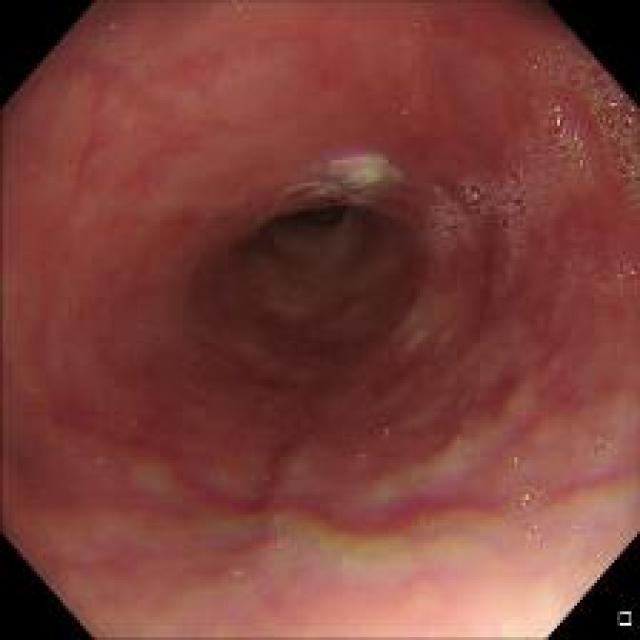bubbles: (426, 129, 595, 254), (525, 24, 632, 200), (590, 254, 638, 305), (564, 255, 588, 285), (514, 485, 540, 511), (410, 514, 435, 534), (589, 435, 610, 458), (408, 8, 428, 30), (376, 425, 399, 442), (526, 520, 545, 540), (269, 540, 288, 560), (352, 448, 370, 464), (365, 484, 380, 499)
color misalignment: (136, 446, 632, 572), (276, 146, 391, 210)
contrast: (264, 204, 360, 256)
